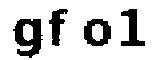1: (118, 4, 148, 50)
f: (49, 4, 69, 47)
g: (11, 13, 43, 60)
o: (83, 19, 112, 48)
